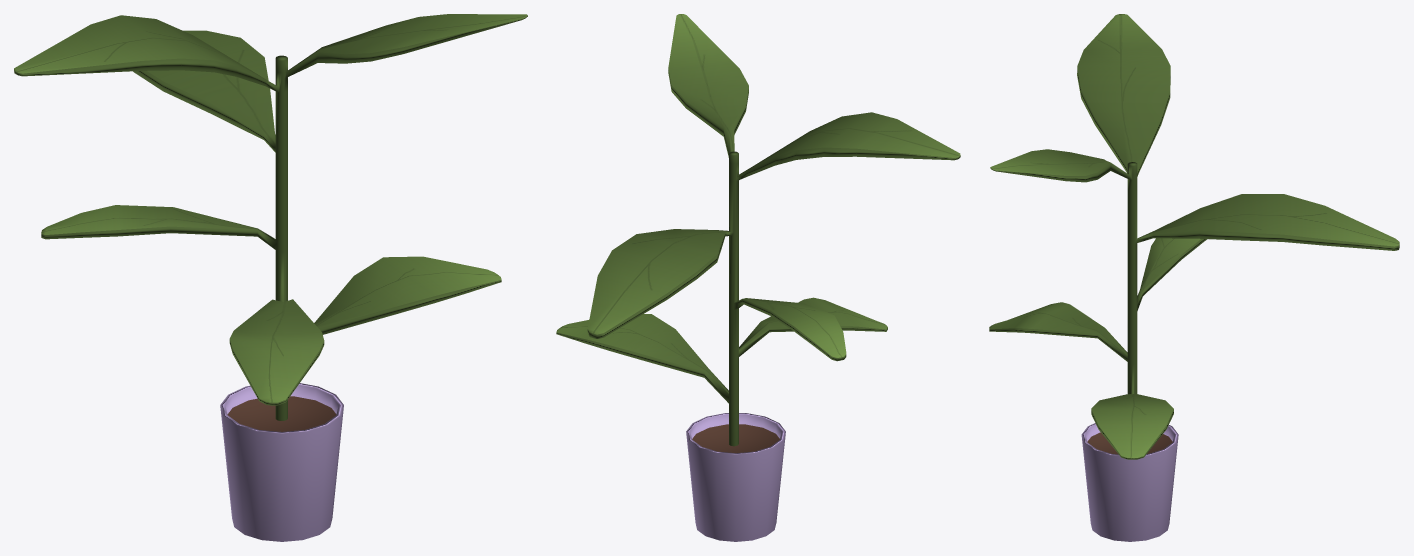
The model's file is ficus_v01.fbx.
3 views of the same model, side by side, from view 1: azimuth 30°, elevation 25°; view 2: azimuth 150°, elevation 25°; view 3: azimuth 270°, elevation 25° (orthographic). The views are drawn at different scales.
Visible parts, largest first — view 1: Ficus; view 2: Ficus; view 3: Ficus.
Part boxes in pixels (bbox=[...]): Ficus: bbox=[14, 14, 527, 541]; Ficus: bbox=[556, 14, 960, 541]; Ficus: bbox=[989, 14, 1399, 541].
Bounding box in the file's own units: 90.7 × 94.01 × 83.99.
